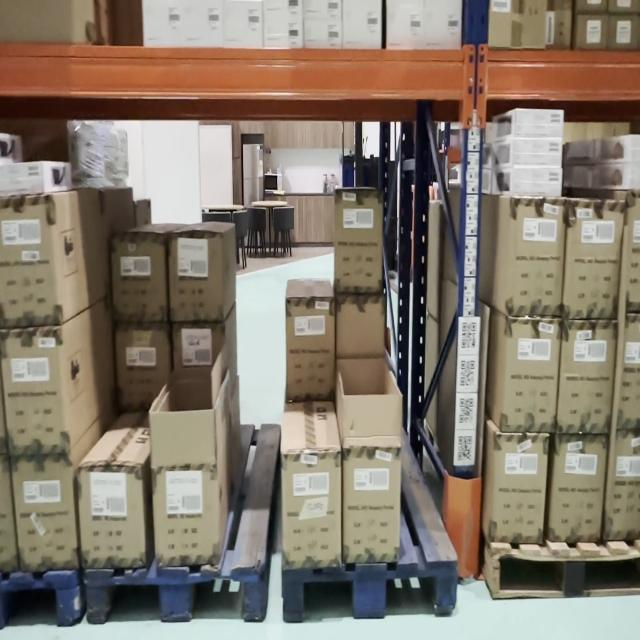box: (564, 202, 623, 316), (558, 325, 616, 433), (503, 322, 561, 429), (78, 474, 146, 564), (346, 451, 401, 561), (493, 432, 549, 540), (284, 454, 340, 558), (155, 468, 219, 559), (512, 201, 562, 314), (550, 438, 606, 538), (287, 298, 334, 398), (337, 192, 381, 290), (113, 237, 164, 321), (171, 234, 223, 316), (516, 107, 564, 135), (514, 139, 561, 166), (513, 171, 563, 194)
